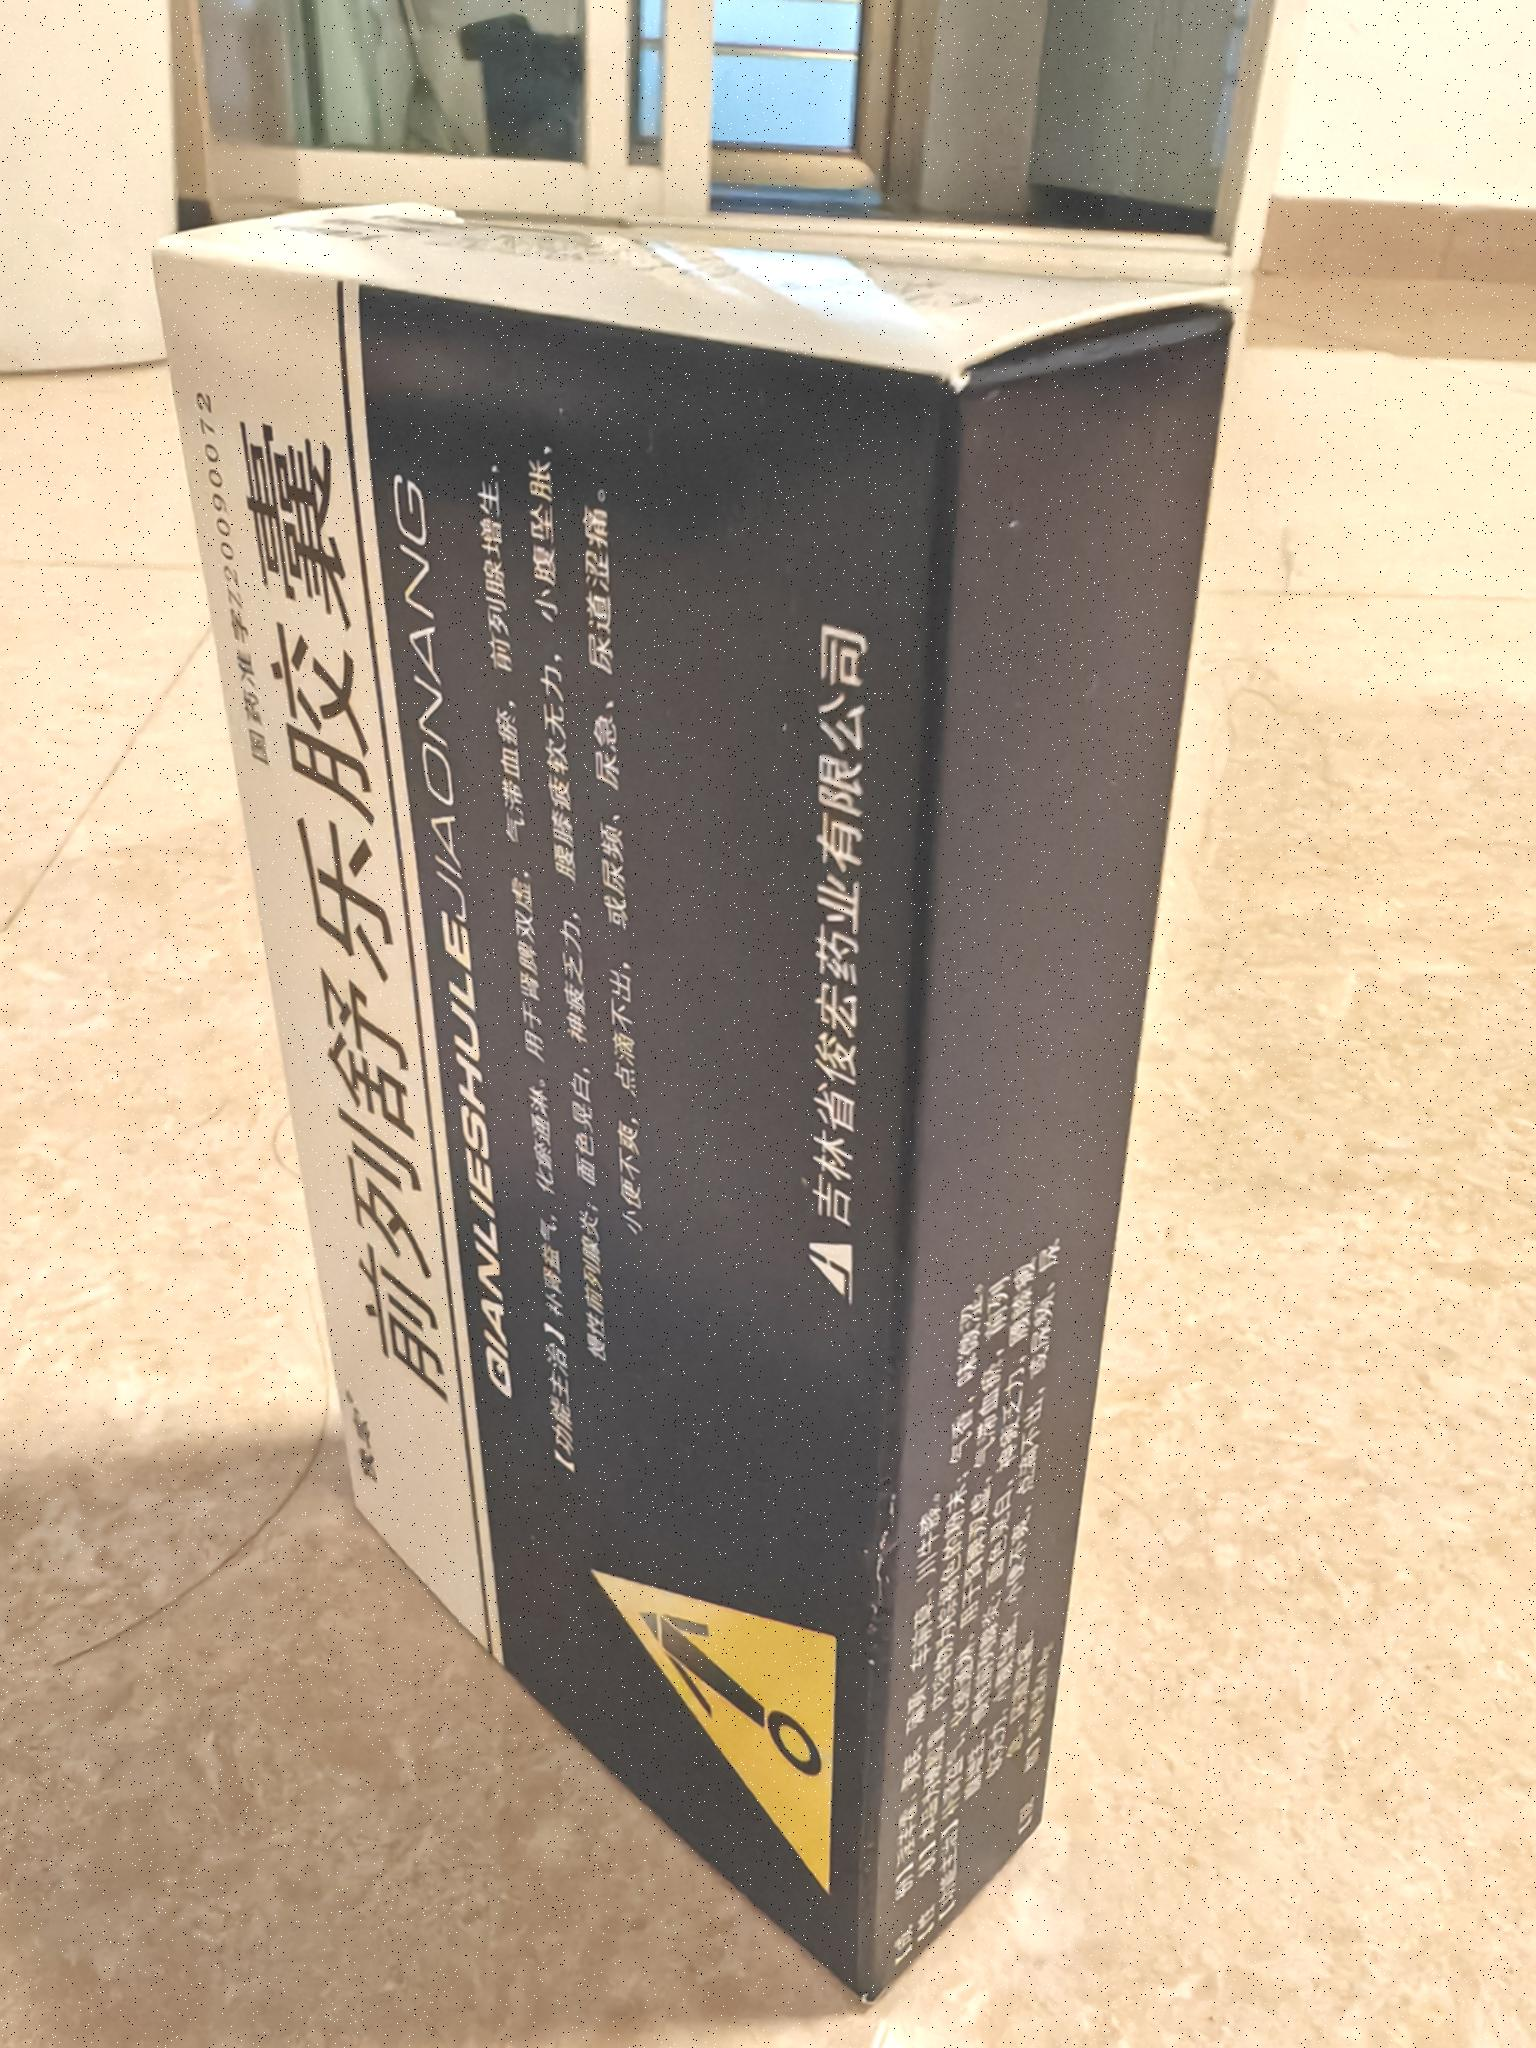Medicine2: (132, 182, 1246, 2033)
